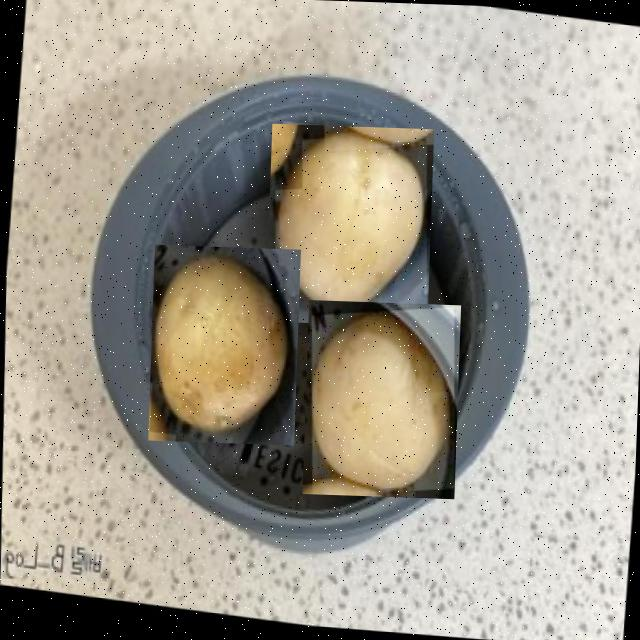Potato: (265, 123, 434, 327), (302, 300, 461, 498), (147, 244, 300, 445)
